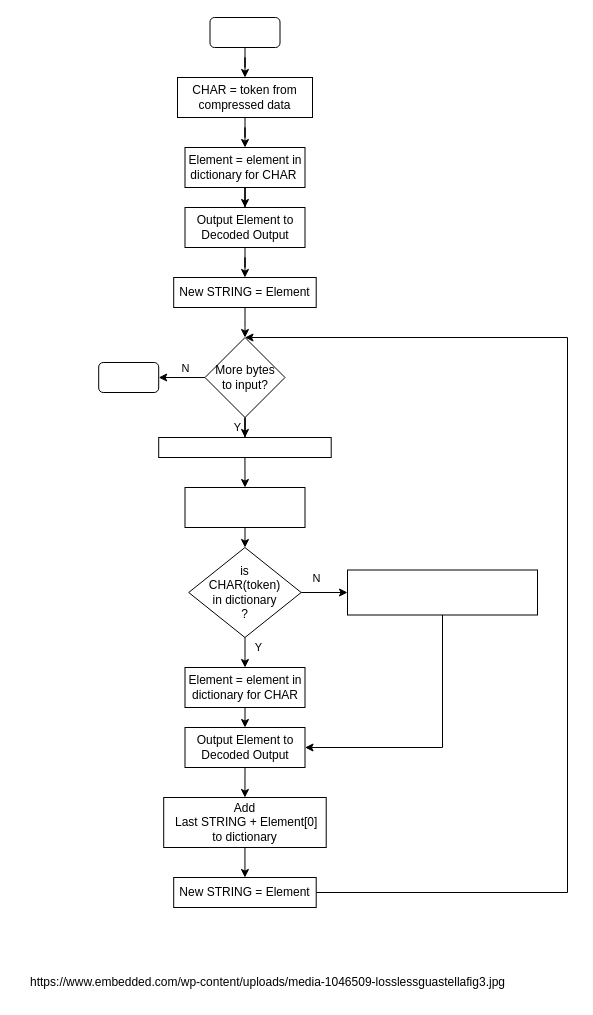
The diagram is 593 pixels wide and 1015 high, and some of its shapes have lost their labels. Here are the shapes that lost their labels. From the top down, the centre of each, then its label:
At (244,32): "START".
At (128,377): "END".
At (244,447): "Last STRING = New STRING".
At (244,507): "CHAR =token from compressed data".
At (442,592): "Element = Last STRING + Last STRING[0]".
